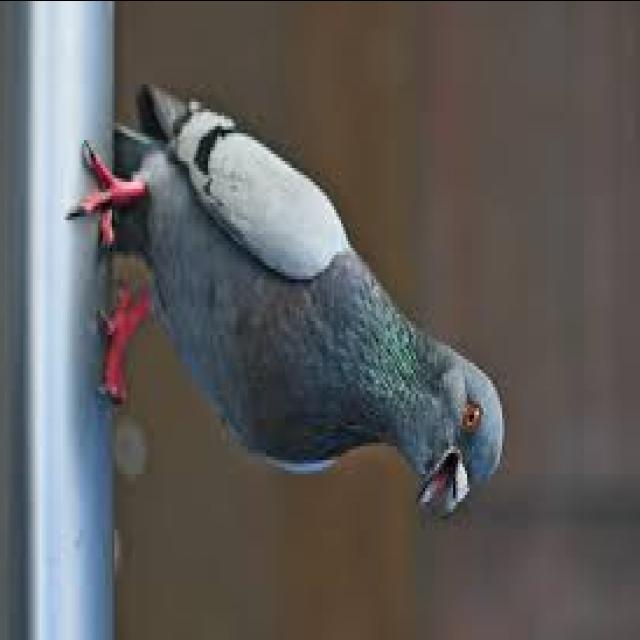pigeon: (75, 62, 515, 536)
